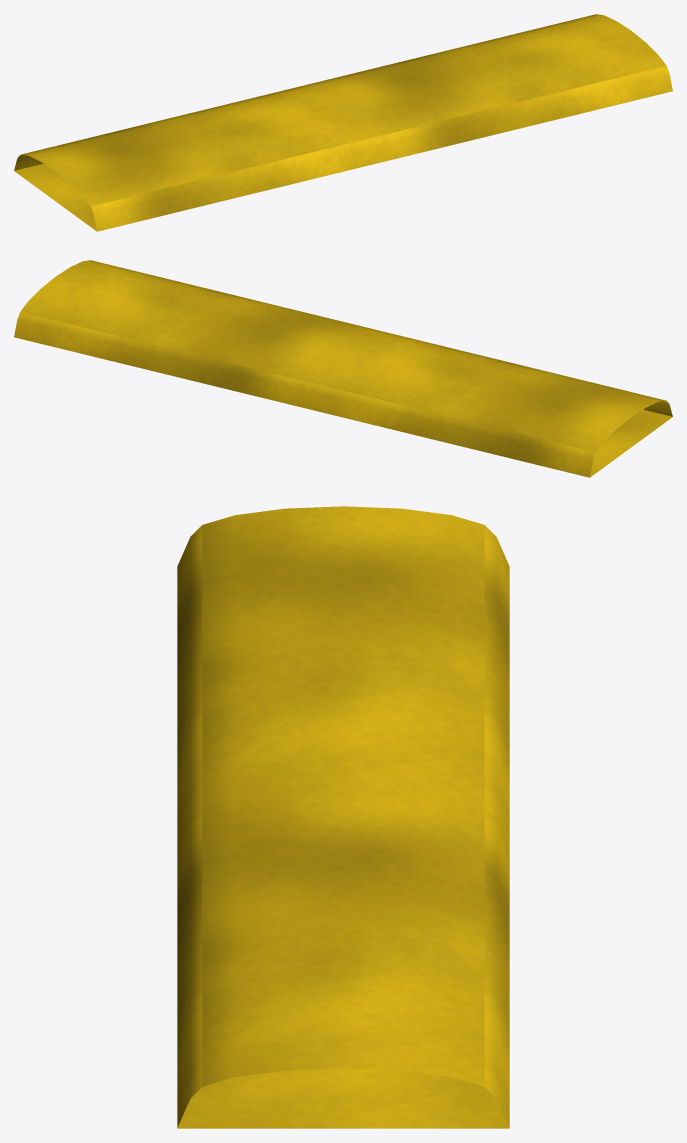
The model's file is sausage_kerb_2m.glb.
3 views of the same model, one above another, from view 1: azimuth 30°, elevation 25°; view 2: azimuth 150°, elevation 25°; view 3: azimuth 270°, elevation 25° (orthographic). The views are drawn at different scales.
Visible parts, largest first — view 1: sausage_kerb_2m; view 2: sausage_kerb_2m; view 3: sausage_kerb_2m.
Part boxes in pixels (left/top/right/bottom): sausage_kerb_2m: left=14, top=14, right=672, bottom=231; sausage_kerb_2m: left=14, top=260, right=672, bottom=477; sausage_kerb_2m: left=177, top=506, right=509, bottom=1128.
Size of the model in its own units: 2 by 0.1 by 0.5.
1 material, 1 textured.
